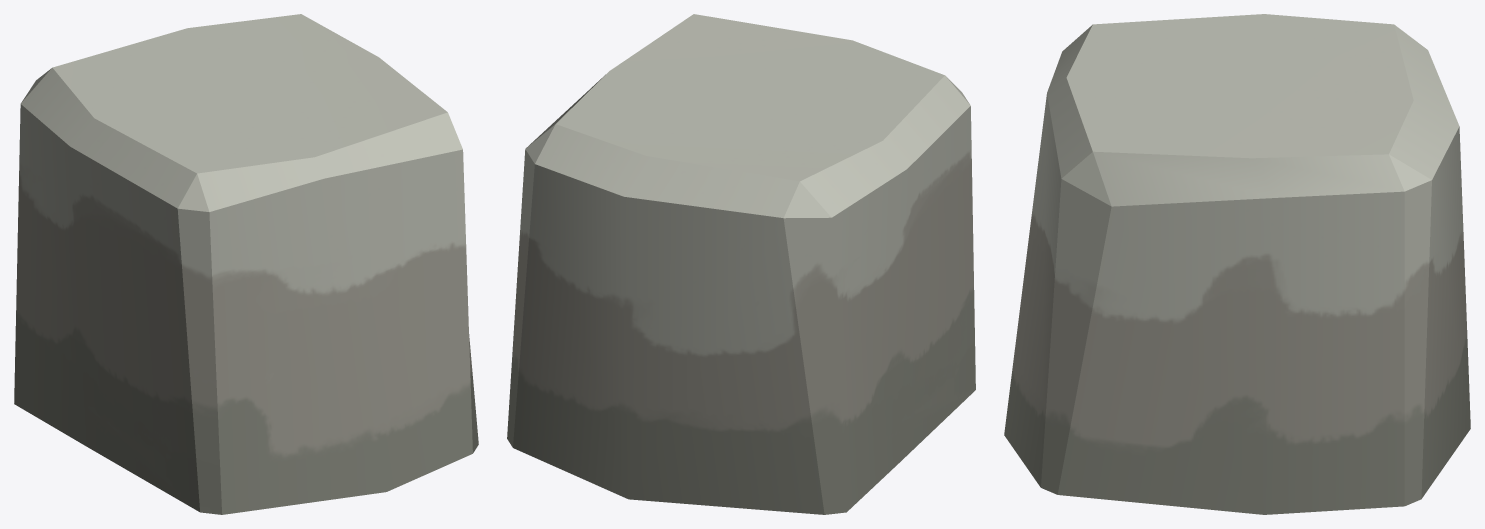
Rendered from Stone_Platform.fbx.
The picture shows the model from 3 angles, left to right: view 1: azimuth 30°, elevation 25°; view 2: azimuth 150°, elevation 25°; view 3: azimuth 270°, elevation 25°; orthographic projection. The views are drawn at different scales.
Visible parts, largest first — view 1: Stone_Platform; view 2: Stone_Platform; view 3: Stone_Platform.
Part boxes in pixels (x1,y1,x2,y2): Stone_Platform: [14, 14, 478, 514]; Stone_Platform: [507, 14, 975, 514]; Stone_Platform: [1004, 14, 1470, 514].
Bounding box in the file's own units: 6.26 × 5.54 × 6.97.
